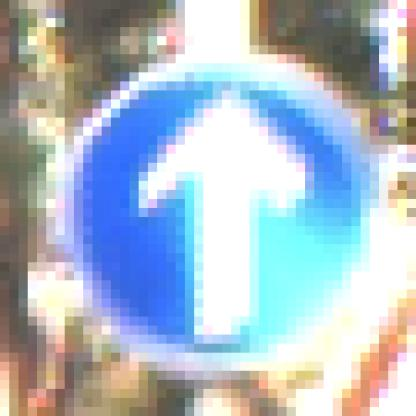AheadOnly: (47, 46, 371, 372)
